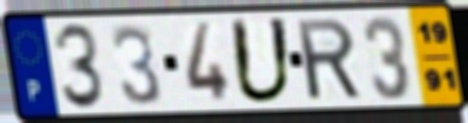3: (52, 20, 106, 112), (110, 20, 164, 108), (362, 12, 412, 103)
4: (183, 20, 234, 104)
R: (293, 15, 365, 103)
U: (227, 16, 297, 107)
